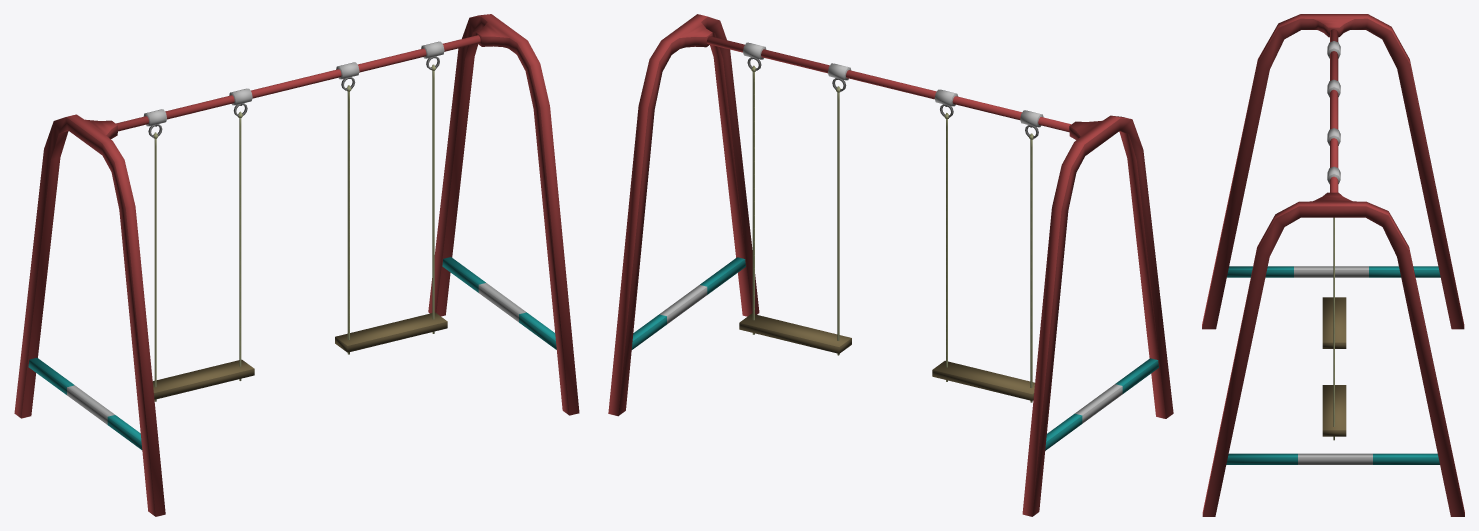
File: furnishings-outdoor-swing_v1.glb
The picture shows the model from 3 angles, left to right: view 1: azimuth 30°, elevation 25°; view 2: azimuth 150°, elevation 25°; view 3: azimuth 270°, elevation 25°; orthographic projection. The views are drawn at different scales.
Parts seen in each view (by area): view 1: Swing.001; view 2: Swing.001; view 3: Swing.001.
Boxes of the visible parts, x1,y1,x2,y2 form: Swing.001: [14, 14, 579, 516]; Swing.001: [608, 14, 1173, 516]; Swing.001: [1202, 14, 1464, 516].
Bounding box in the file's own units: 2.98 × 2.25 × 1.72.
